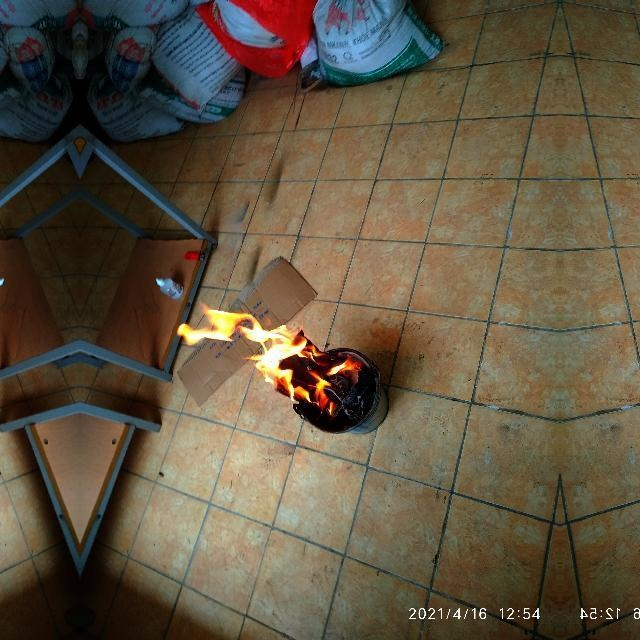fire: (190, 291, 361, 420)
